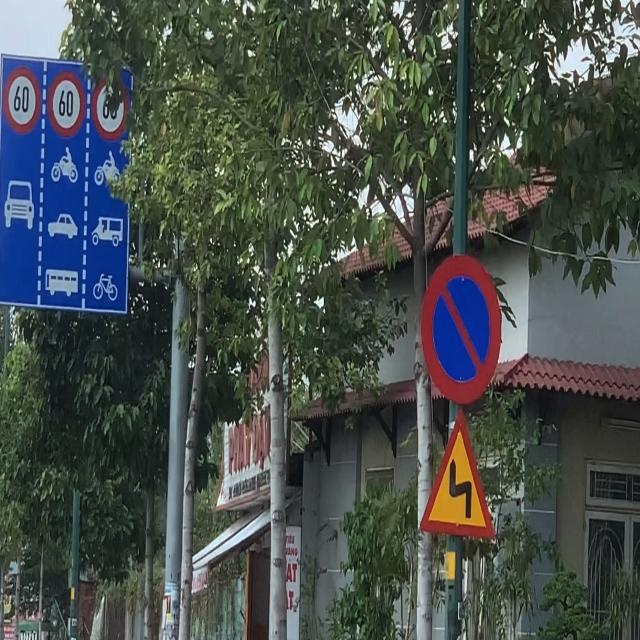Cam do: (420, 242, 507, 408)
Nguy hiem: (417, 398, 497, 544)
Toc do toi da: (2, 60, 44, 139), (46, 58, 86, 139)
